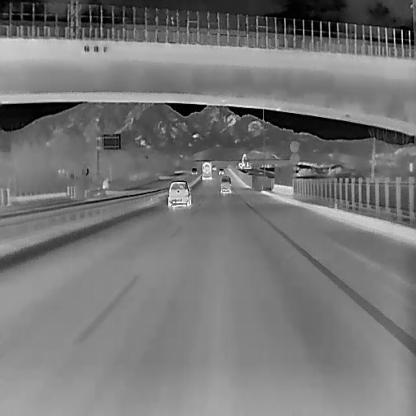car: (167, 180, 191, 207), (200, 160, 212, 180), (220, 174, 231, 192), (190, 166, 197, 174), (217, 167, 224, 175), (212, 163, 217, 171)
